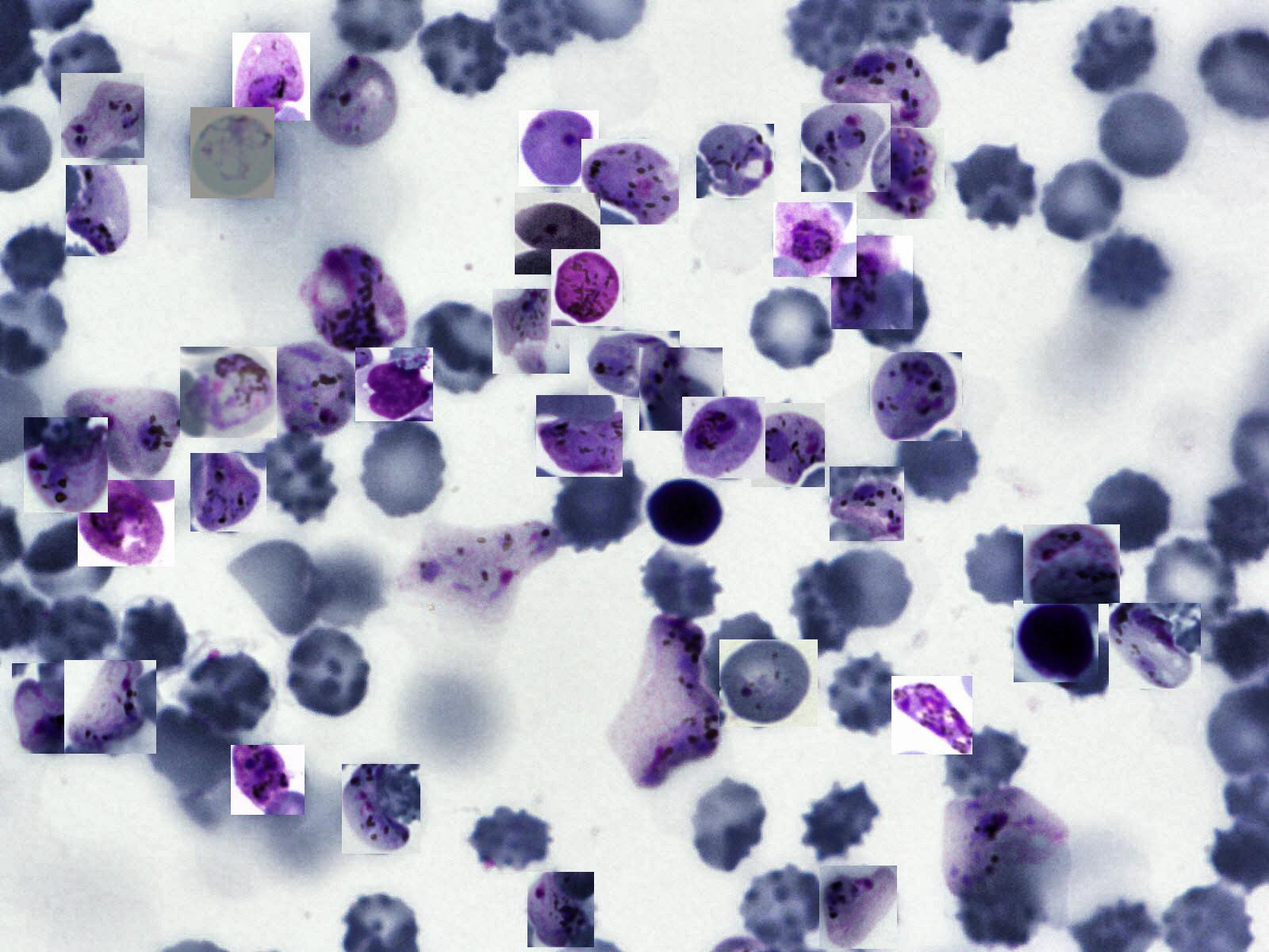Infected: (611, 616, 721, 789), (401, 521, 550, 616), (943, 787, 1069, 897), (301, 239, 411, 363), (821, 46, 940, 132), (265, 341, 361, 443), (92, 384, 186, 486), (180, 347, 277, 438), (719, 639, 818, 727), (64, 660, 156, 754), (581, 139, 679, 225), (78, 480, 174, 566), (870, 353, 962, 441), (311, 55, 397, 149), (801, 103, 891, 192), (857, 128, 945, 219), (24, 417, 108, 512), (1109, 603, 1201, 689), (1023, 524, 1120, 604), (12, 663, 97, 754), (190, 107, 274, 198), (831, 236, 913, 329), (66, 165, 148, 256), (536, 395, 623, 477), (639, 347, 723, 431), (61, 73, 144, 158), (343, 764, 420, 854), (515, 193, 600, 274), (232, 33, 310, 121), (1014, 601, 1098, 682), (682, 397, 765, 478), (819, 866, 897, 949), (493, 289, 569, 374), (891, 676, 972, 754), (773, 202, 857, 277), (588, 331, 680, 399), (751, 403, 825, 487), (519, 110, 599, 186), (190, 453, 266, 532), (697, 124, 775, 198), (356, 347, 433, 421), (646, 475, 724, 547), (830, 466, 904, 541), (551, 249, 623, 326), (231, 745, 305, 815), (527, 872, 594, 947)
Uninfected: (231, 539, 324, 635), (362, 417, 447, 519), (1145, 539, 1239, 631), (415, 301, 504, 392), (1098, 91, 1189, 178), (1068, 5, 1156, 94), (1085, 468, 1175, 555), (554, 462, 645, 548), (146, 706, 240, 789), (739, 864, 831, 948), (417, 12, 509, 95), (179, 651, 273, 732), (961, 526, 1056, 606), (286, 628, 370, 718), (1082, 231, 1172, 315), (256, 431, 338, 523), (24, 520, 116, 602), (952, 143, 1038, 229), (750, 286, 836, 370), (823, 548, 913, 628), (700, 615, 780, 704), (1041, 157, 1125, 240), (895, 421, 980, 501), (692, 779, 765, 870), (828, 655, 909, 735), (939, 728, 1029, 800), (791, 562, 861, 653), (858, 267, 933, 350), (640, 547, 724, 621), (958, 872, 1041, 946), (46, 30, 122, 110), (799, 782, 879, 858), (39, 595, 113, 668), (119, 601, 189, 678), (470, 808, 554, 870), (1052, 624, 1118, 702), (1, 225, 64, 294)
